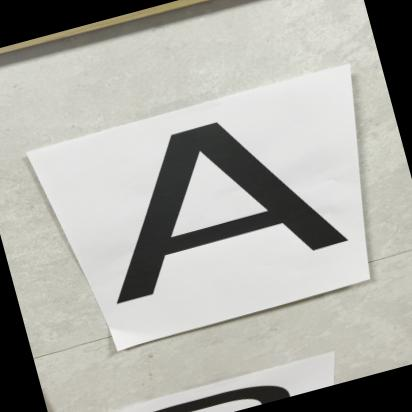seat: (55, 78, 370, 338)
